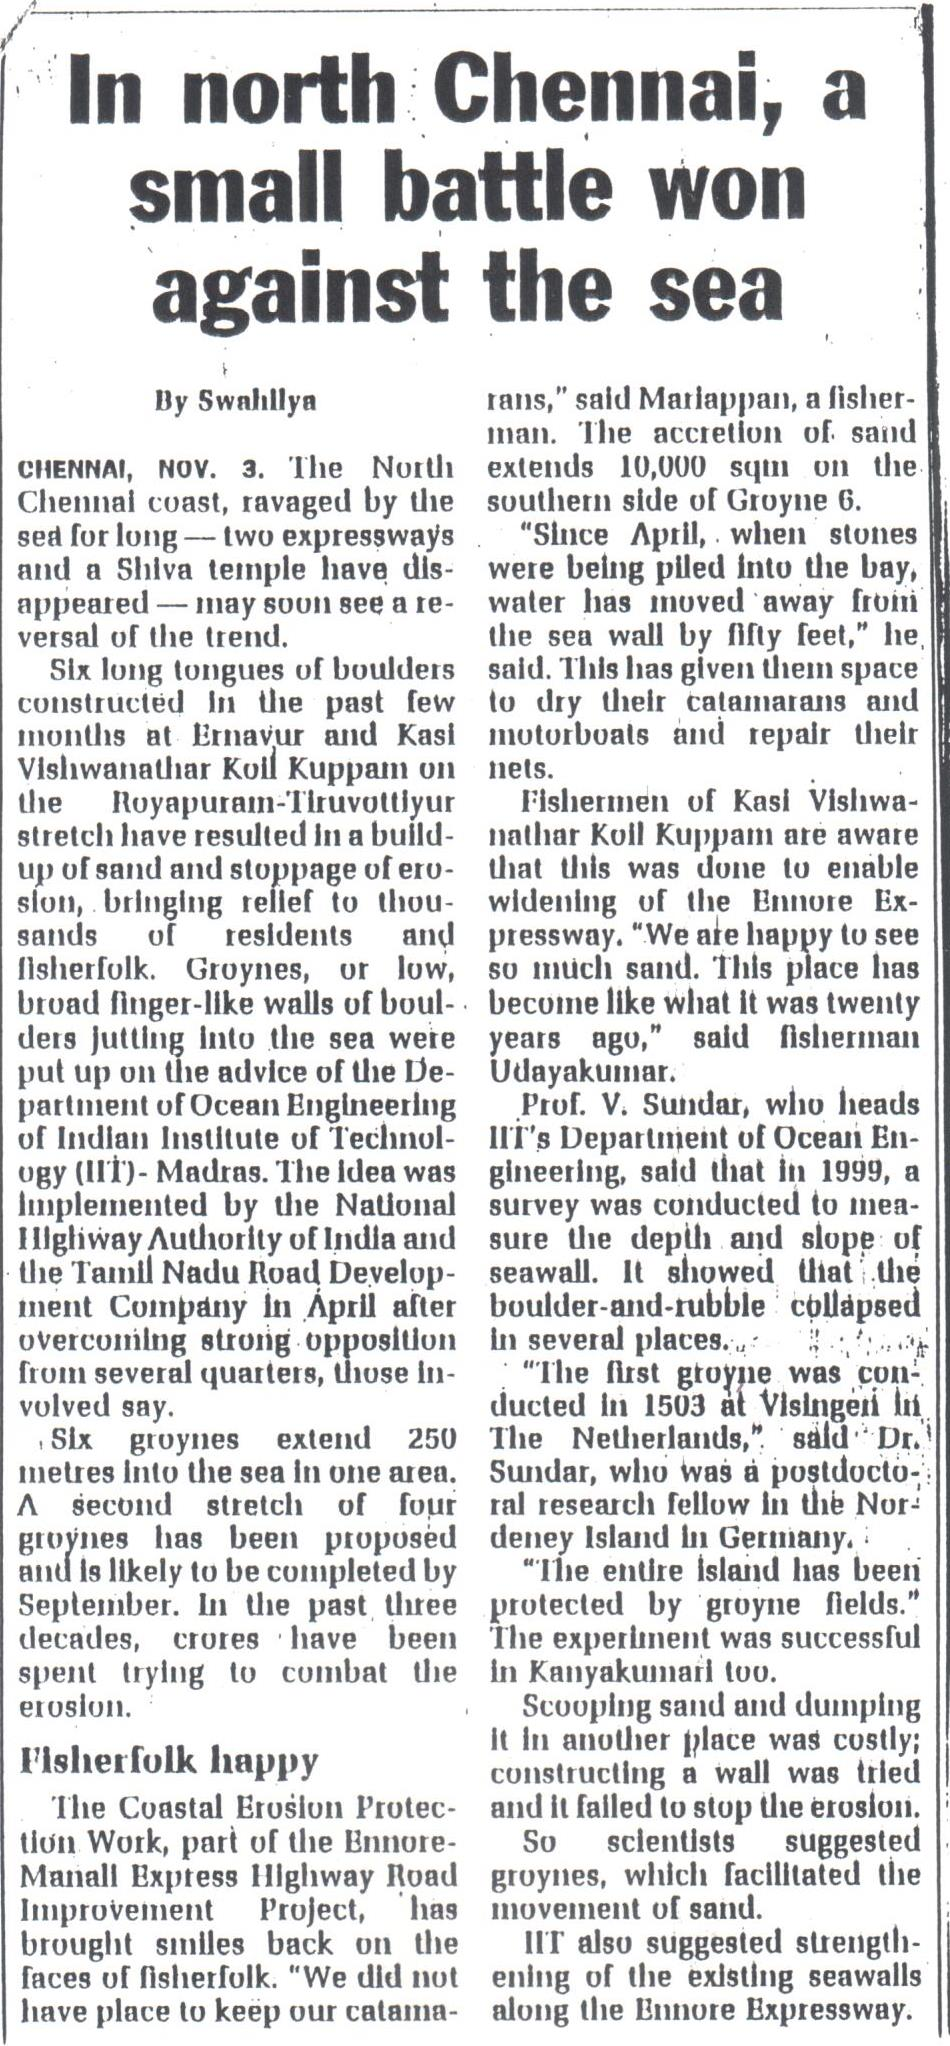news_paper: (9, 18, 937, 2045)
